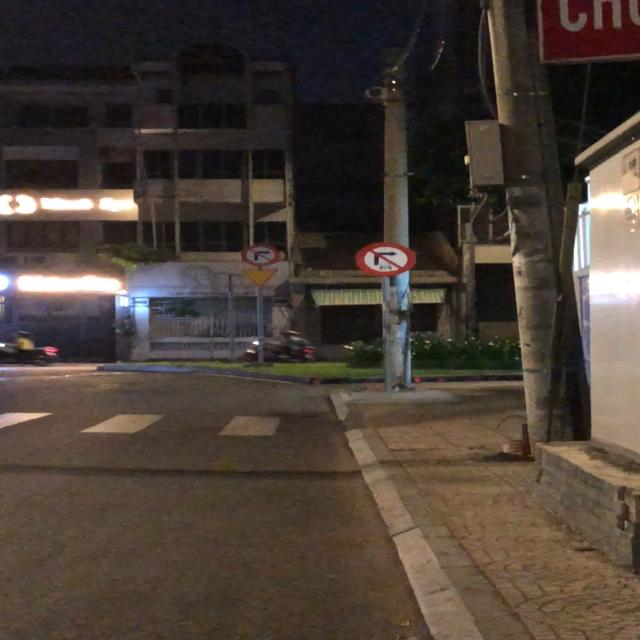Bien bao cam re phai: (240, 245, 282, 266)
Bien bao cam xe o to re phai: (354, 243, 422, 278)
Bien bao giao nhau voi duong uu tien: (240, 266, 280, 288)
